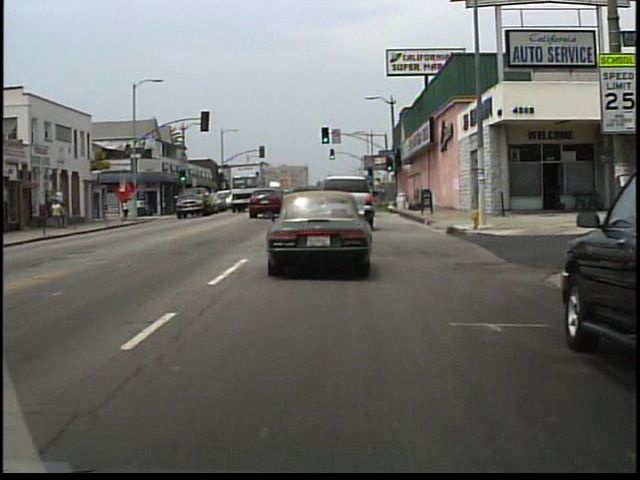person: (52, 197, 64, 228), (64, 202, 74, 229), (123, 197, 134, 220)
